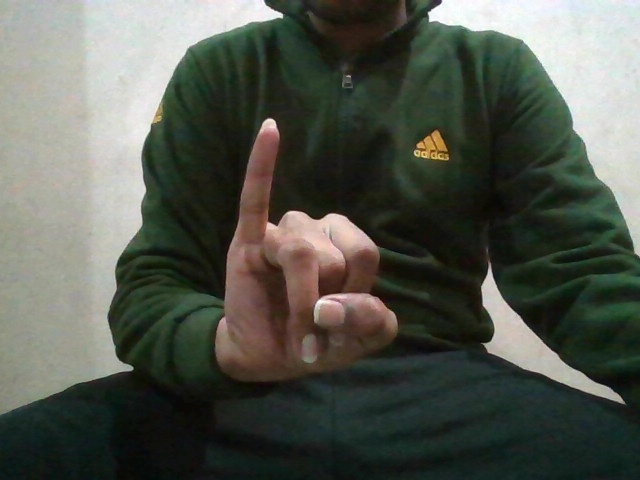I: (230, 114, 396, 384)
